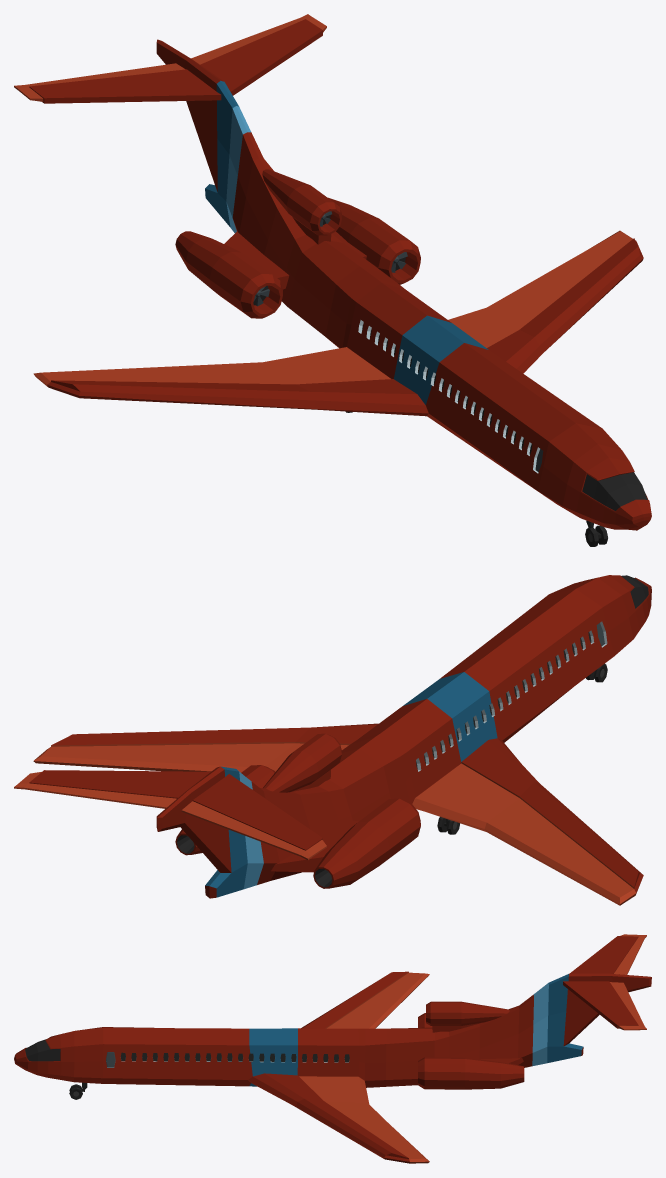
Rendered from ComPlaneV3.glb.
3 renders of one model, top to bottom at view 1: azimuth 30°, elevation 25°; view 2: azimuth 150°, elevation 25°; view 3: azimuth 270°, elevation 25°, orthographic. The views are drawn at different scales.
Parts seen in each view (by area): view 1: ComPlaneV3; view 2: ComPlaneV3; view 3: ComPlaneV3.
Part boxes in pixels (<box>): ComPlaneV3: <box>14,14,651,530</box>; ComPlaneV3: <box>14,575,651,905</box>; ComPlaneV3: <box>14,934,651,1163</box>.
Size of the model in its own units: 2.2 by 0.6784 by 3.15.
Materials: 1 (1 with a texture image).
